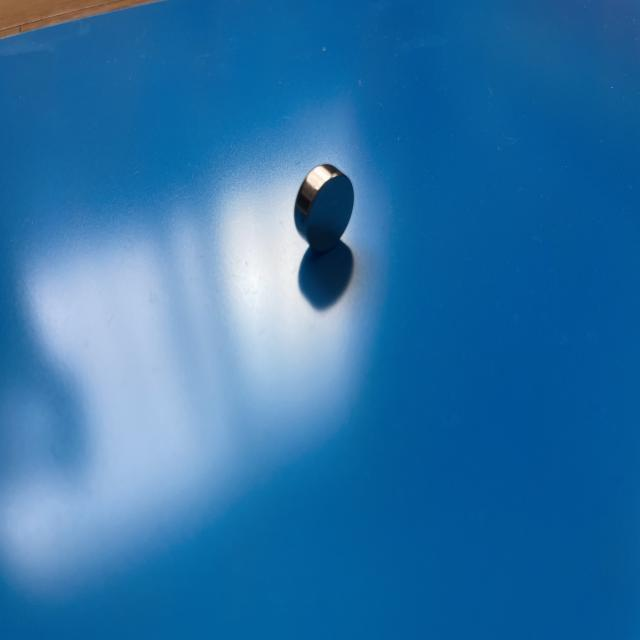COIN: (292, 161, 356, 254)
